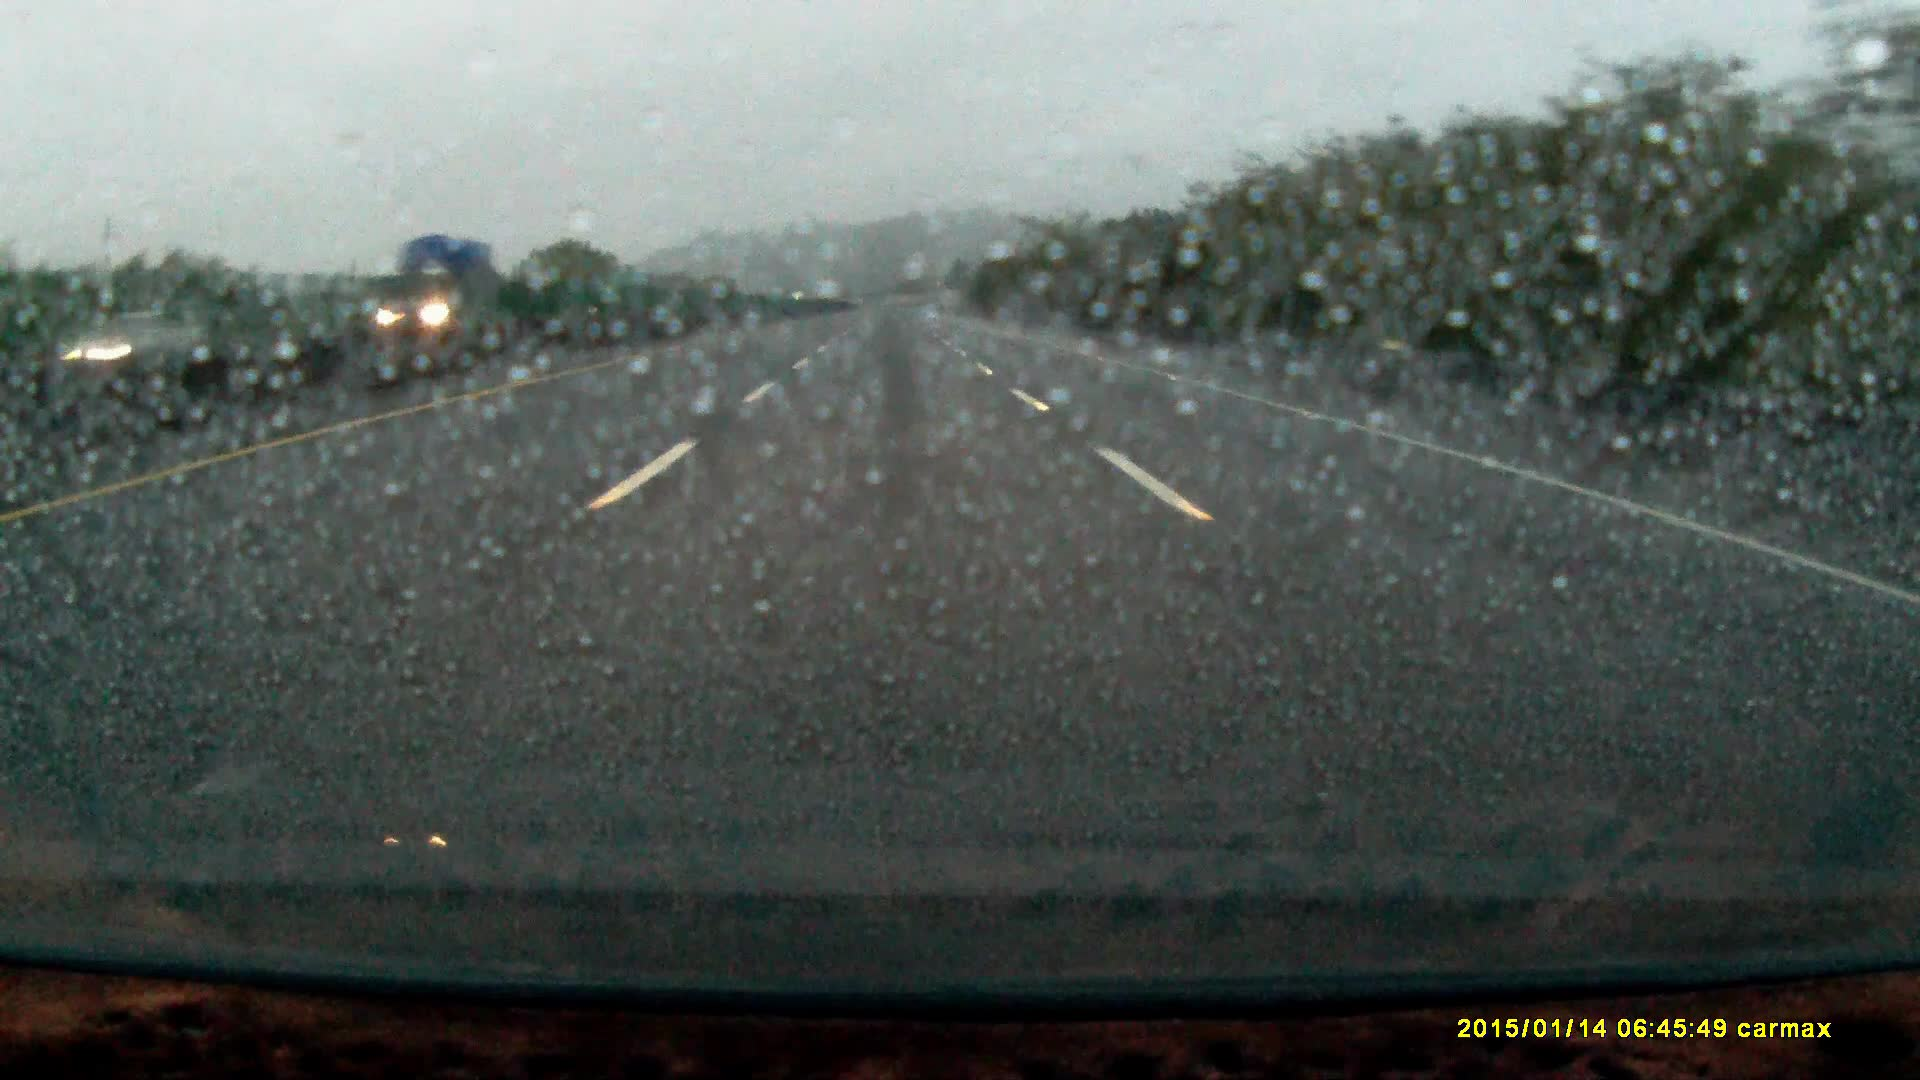vehicle: (381, 236, 495, 336), (54, 313, 208, 367)
